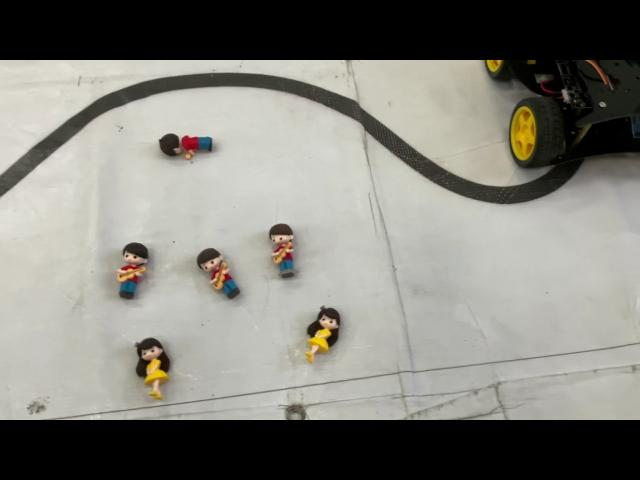man: (194, 244, 244, 303), (116, 238, 152, 300), (266, 223, 302, 281), (158, 133, 215, 159)
woman: (130, 336, 176, 400), (304, 299, 342, 367)
